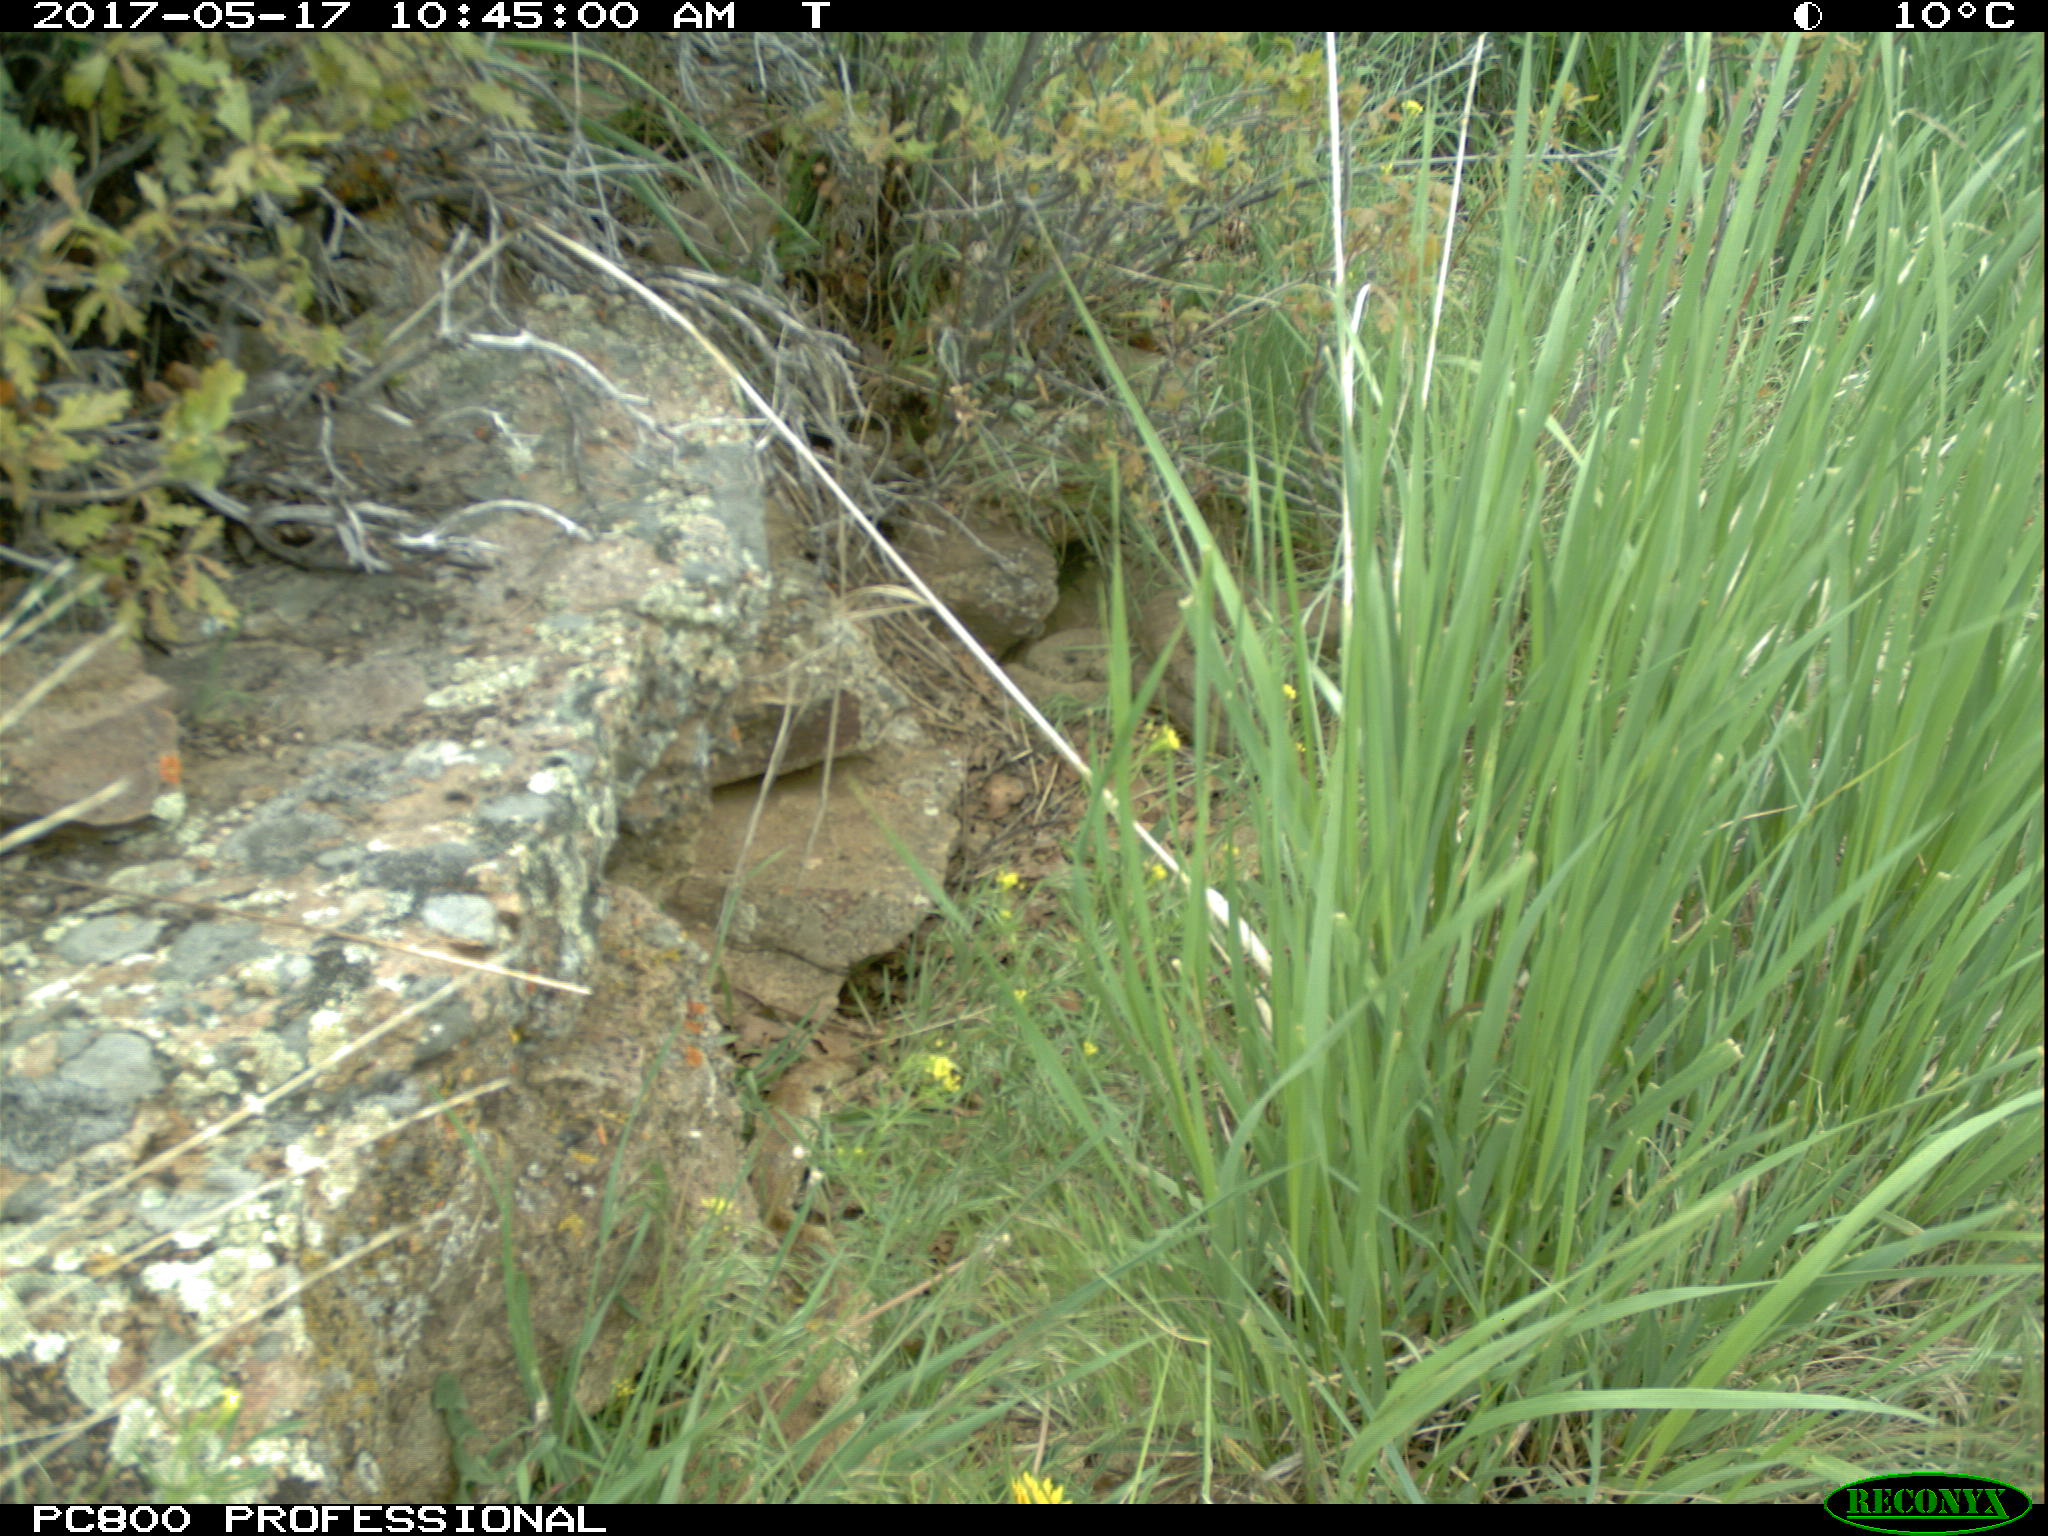snake: (751, 1054, 868, 1441), (1132, 594, 1280, 763), (1000, 616, 1132, 716)
